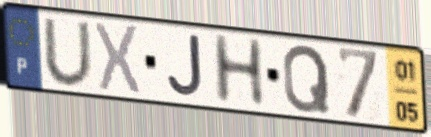7: (336, 45, 381, 122)
H: (209, 31, 268, 107)
J: (165, 33, 205, 100)
Q: (281, 42, 333, 115)
U: (40, 16, 96, 89)
X: (92, 19, 143, 99)
